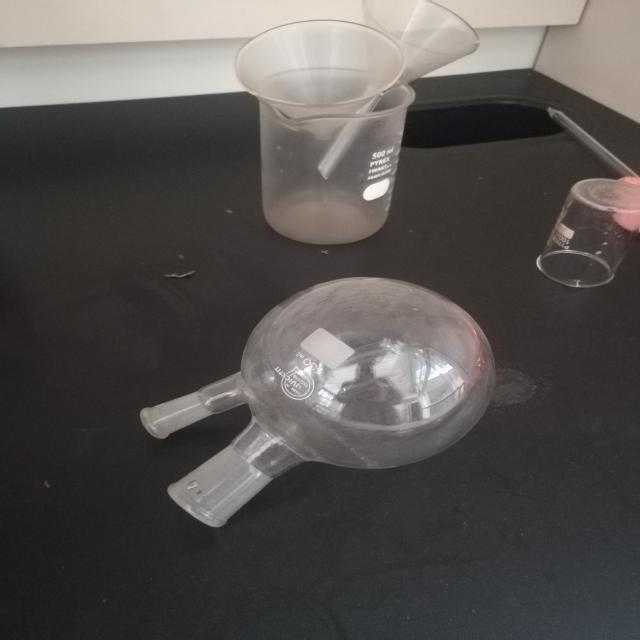Round_Bottom_Flask_Borosilicate_Glass_2_Neck: (101, 260, 547, 574)
